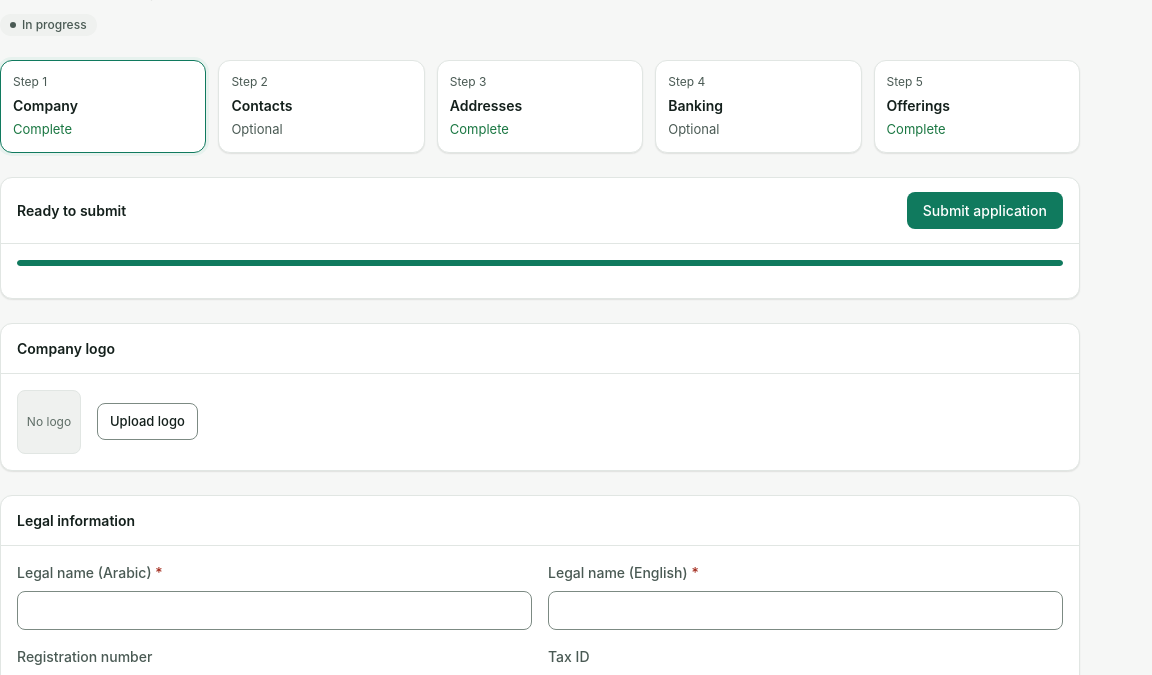
Test: required-vs-missing document chips › ignores profile-field names in the 422 list when escalating documents
Click the button "Submit application" at (985, 210), box [907,192,1063,228]
(page scrolled)
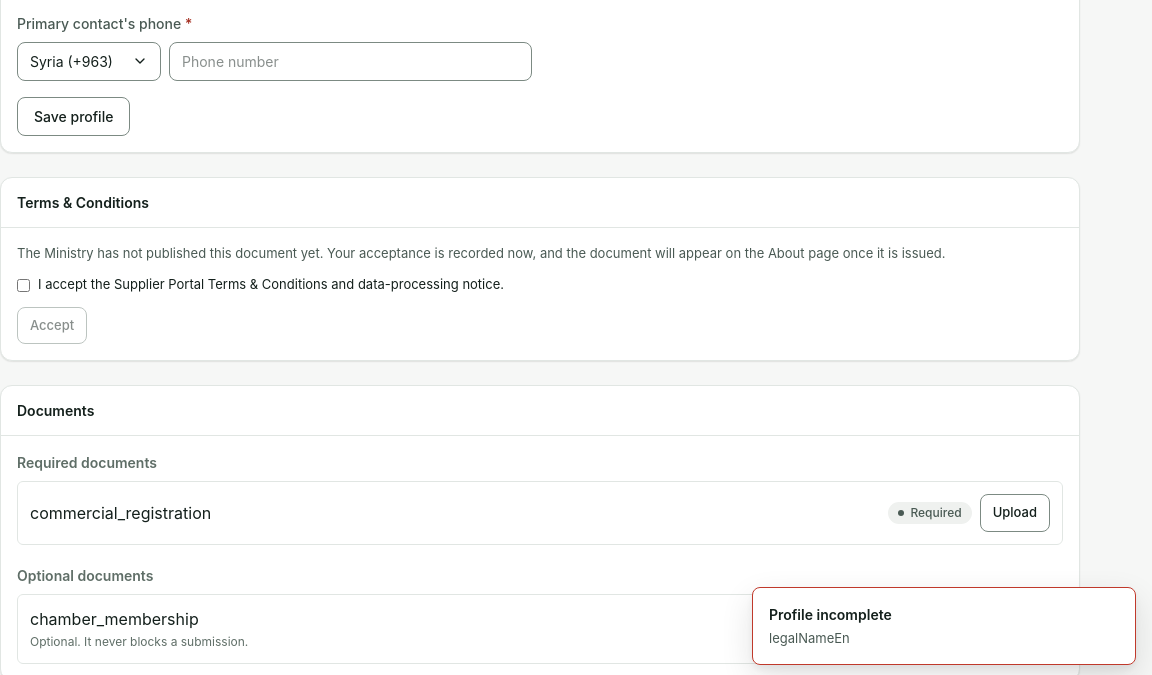
Expected: the text "Required" is shown, [888,502,972,524]
Now the text "Profile incomplete" is shown, box [769,606,892,622]
